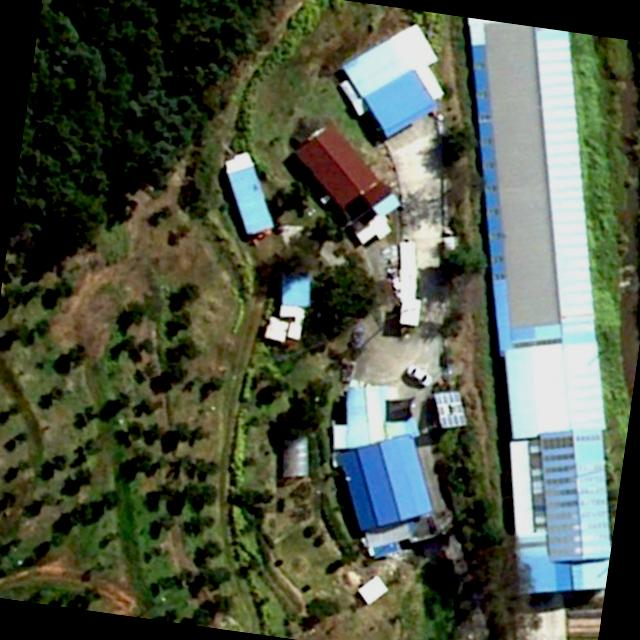solar: (427, 386, 473, 434)
